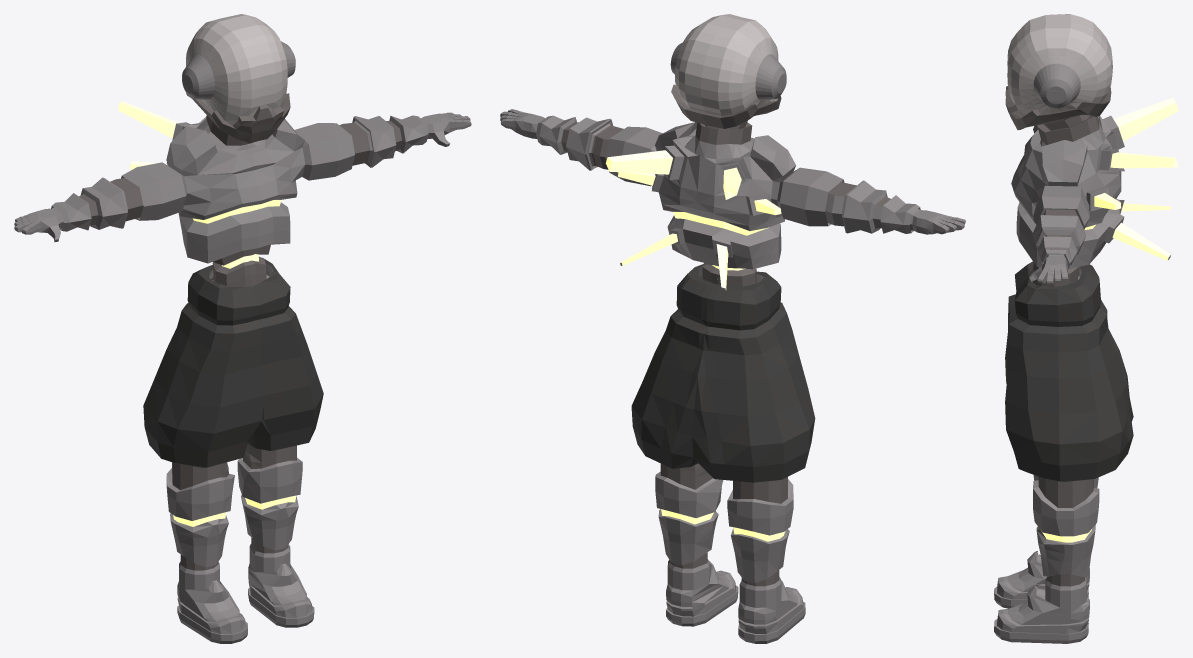
The model's file is personajeTFG_parte14_cuerpoentero.fbx.
3 renders of one model, left to right at view 1: azimuth 30°, elevation 25°; view 2: azimuth 150°, elevation 25°; view 3: azimuth 270°, elevation 25°, orthographic.
Parts seen in each view (by area): view 1: Pecho2; view 2: Pecho2; view 3: Pecho2.
Boxes of the visible parts, left/top/right/bottom form: Pecho2: left=14, top=14, right=471, bottom=643; Pecho2: left=500, top=14, right=965, bottom=643; Pecho2: left=994, top=14, right=1178, bottom=643.
Size of the model in its own units: 140 by 48.88 by 174.
